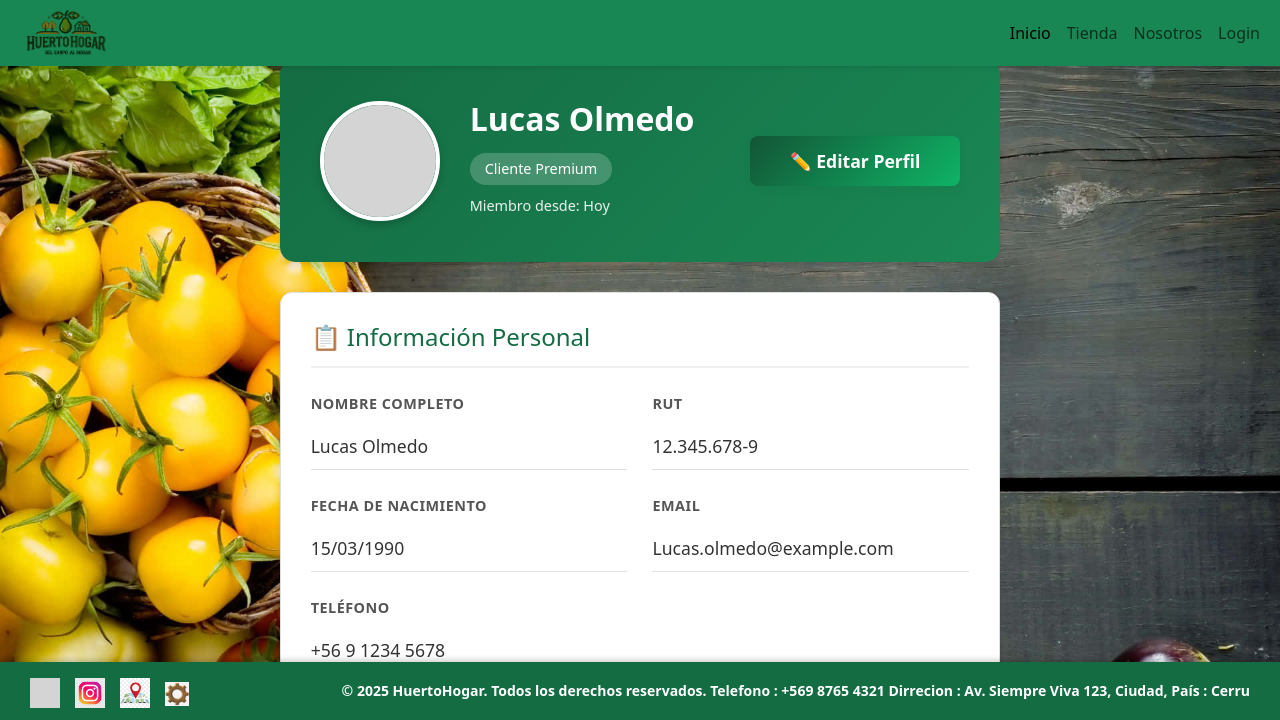
Usuario Component › 4. Guarda los cambios correctamente
Click the button "✏️ Editar Perfil" at (855, 161), box [750,136,960,186]
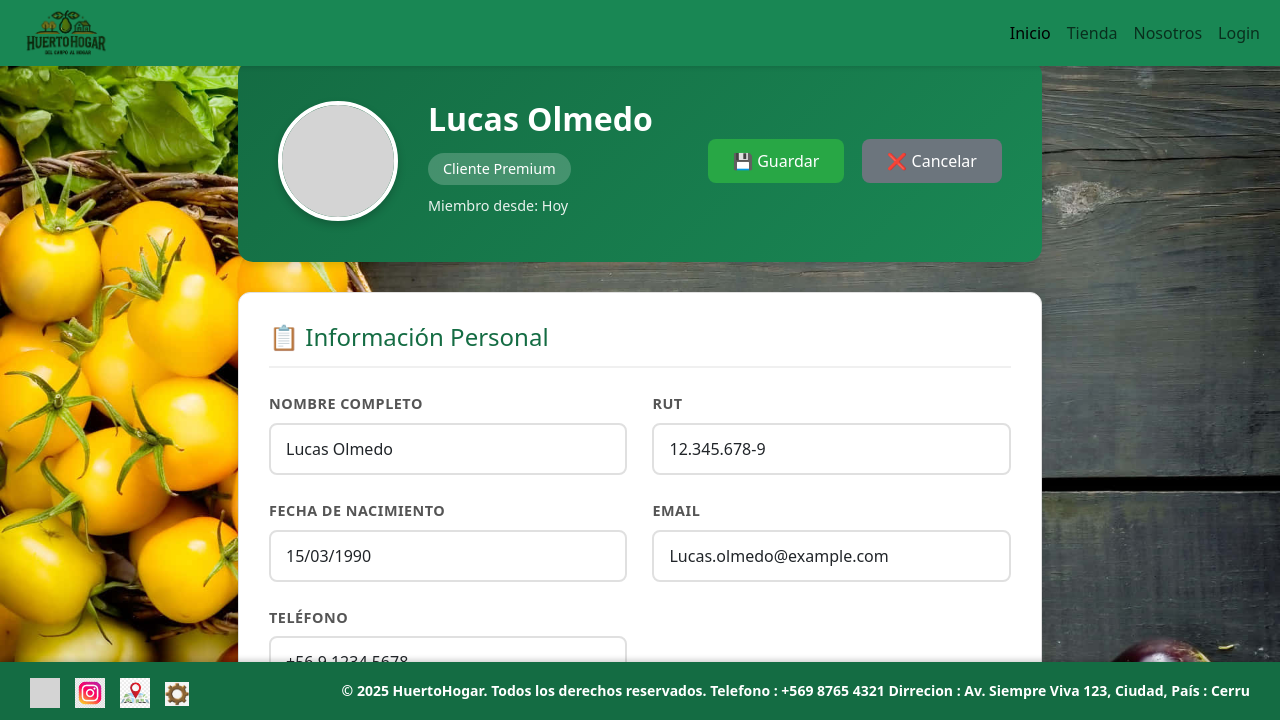
Replace the text in the field showing "Lucas Olmedo" below "Nombre Completo" with "María González" at (448, 449), box [269,423,628,475]
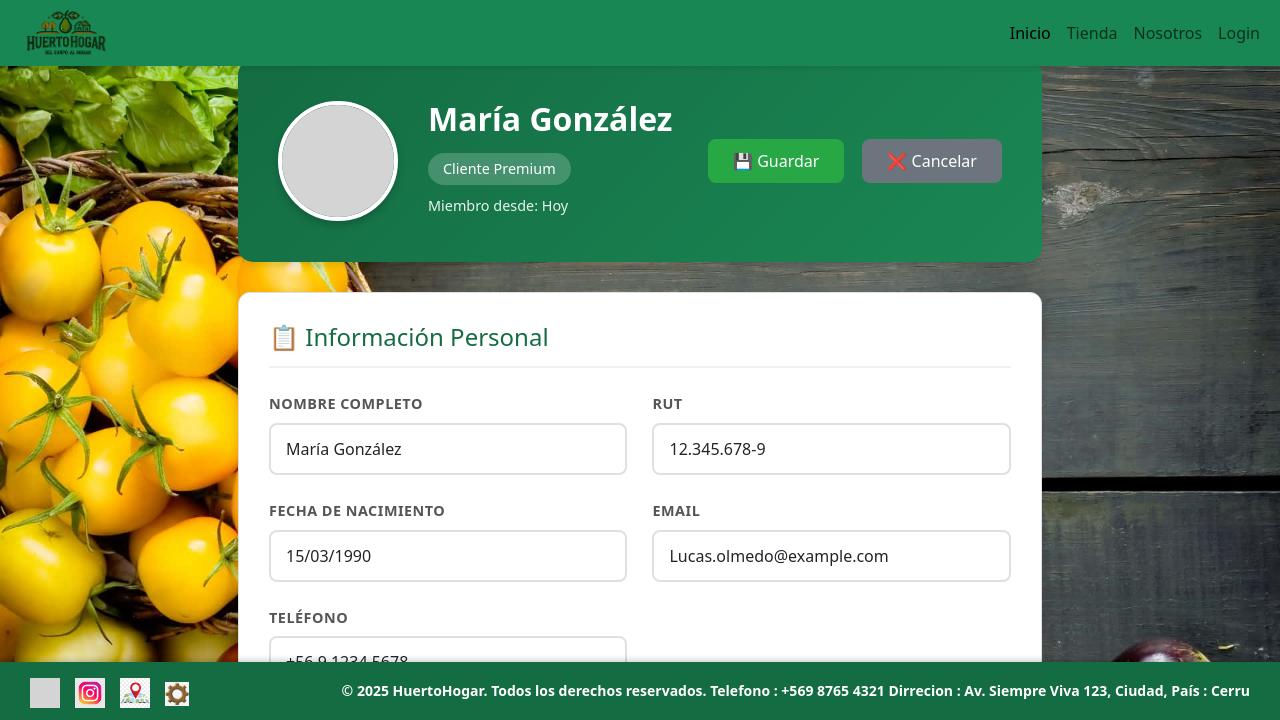
Click the button "💾 Guardar" at (776, 161), box [708,139,844,183]
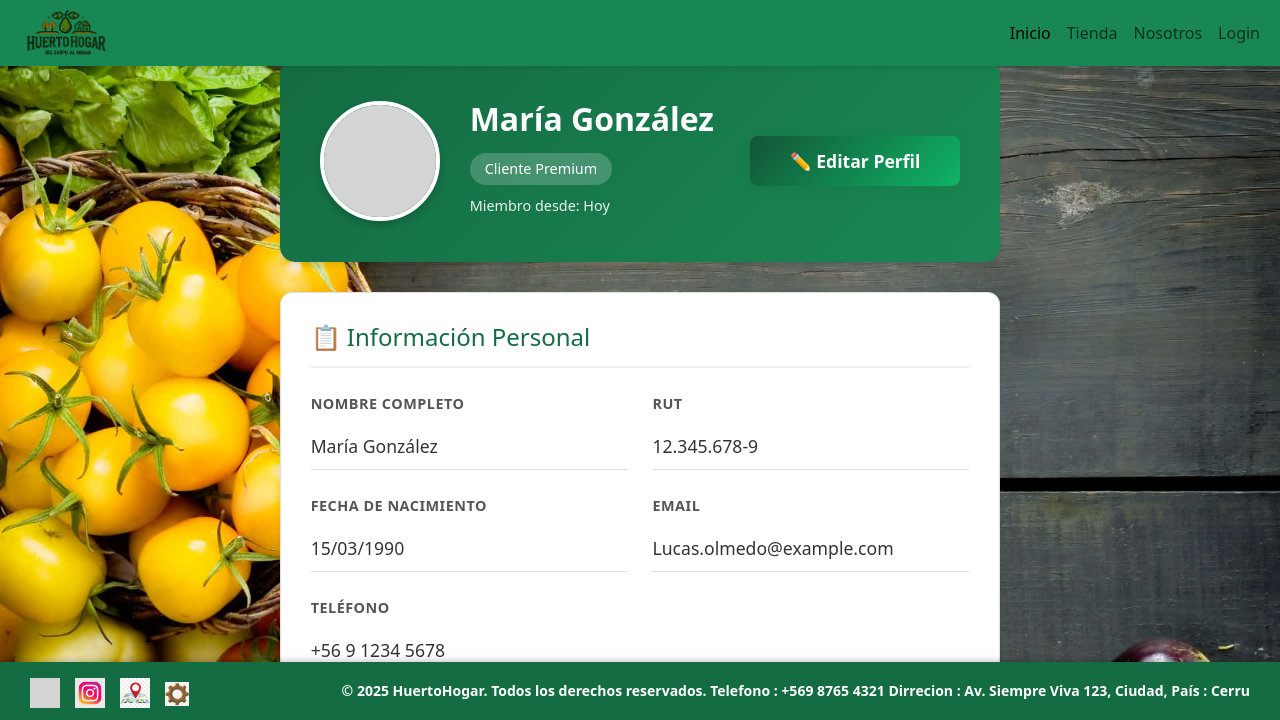
Expected: the button "✏️ Editar Perfil" is shown, [750,136,960,186]
